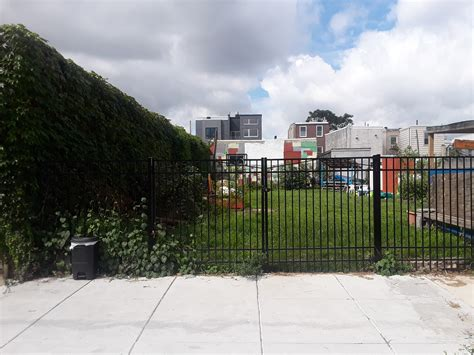pole: (363, 152, 398, 271)
